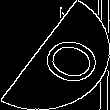O_NW: (15, 23, 95, 87)
